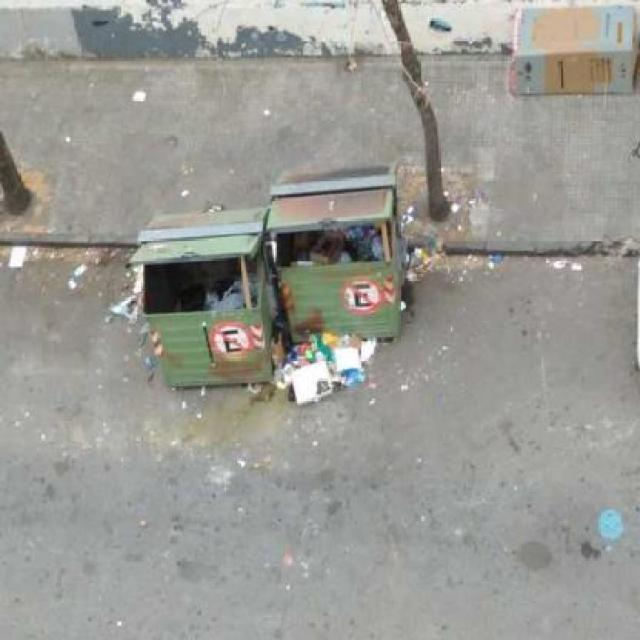garbage: (268, 326, 361, 403), (113, 243, 152, 332), (406, 237, 421, 310), (3, 245, 39, 270)
